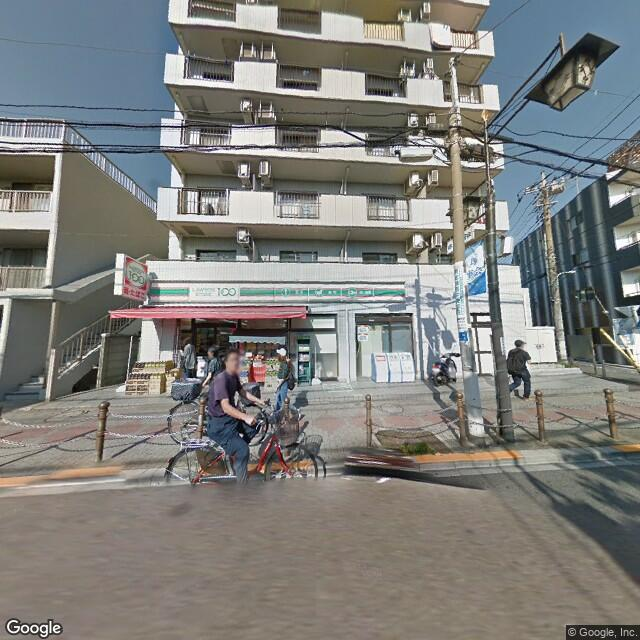lawson: (145, 281, 408, 311), (120, 252, 152, 297)
